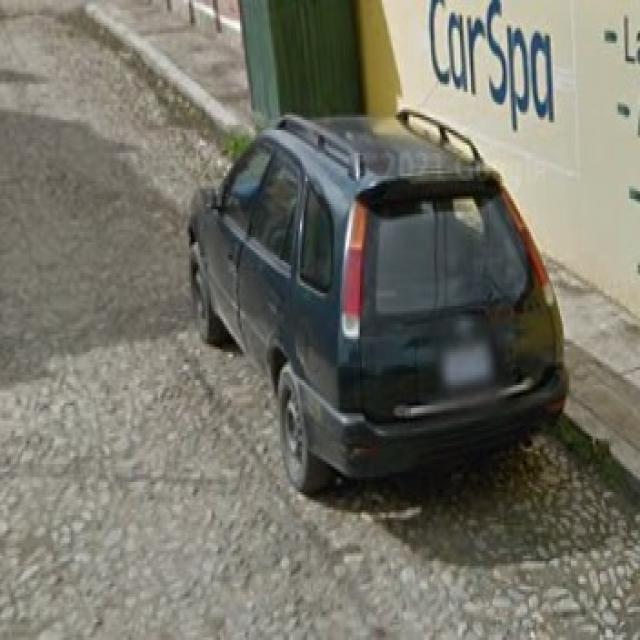cars: (182, 111, 576, 498)
